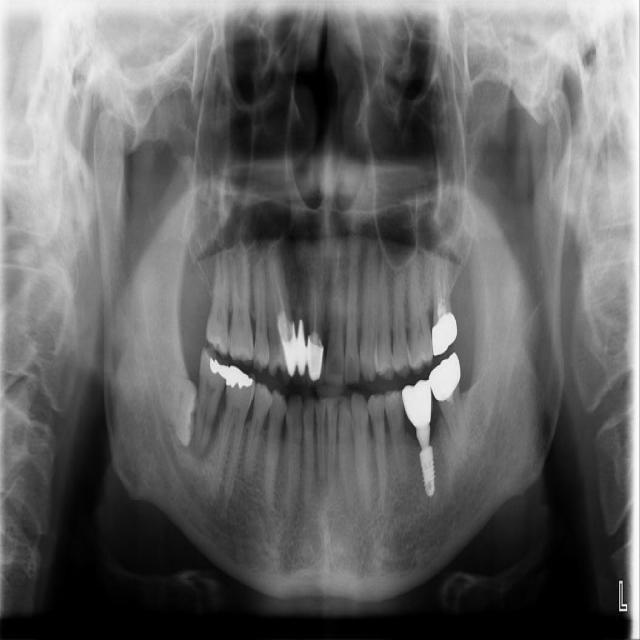52: (276, 307, 331, 391), (419, 348, 475, 405), (195, 344, 231, 404), (221, 364, 258, 419), (401, 378, 434, 431), (432, 313, 458, 356)
73: (434, 383, 472, 465), (261, 239, 293, 321), (428, 243, 454, 327), (306, 280, 324, 348), (618, 620, 626, 626)
BioHorizons Implant: (429, 243, 458, 357)
Blue Sky Bio Implant: (426, 352, 470, 466)
Caries: (206, 246, 230, 357)
Implant: (191, 345, 232, 458)
Keystone Dental Implant: (155, 366, 200, 448)
